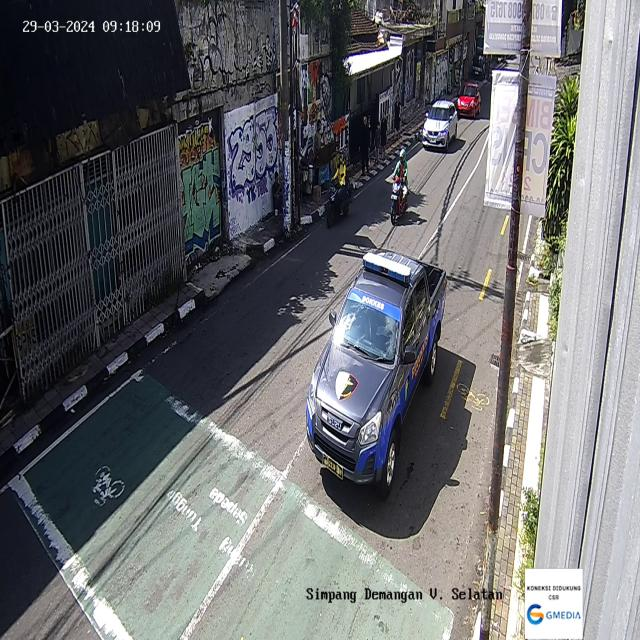car: (306, 248, 448, 498), (422, 99, 458, 150), (456, 80, 481, 118)
motorcycle: (325, 148, 353, 228), (389, 148, 408, 226)
